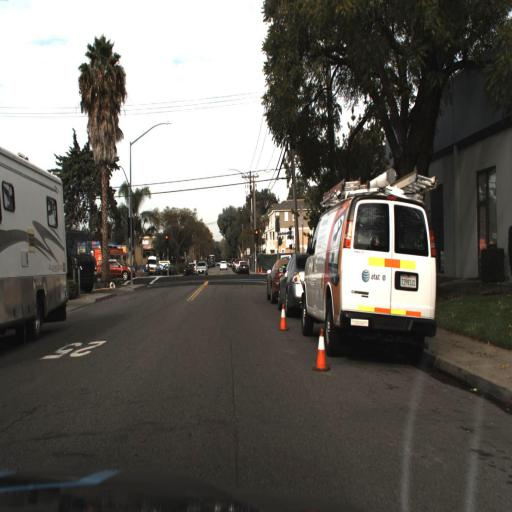car: (301, 166, 439, 358), (276, 250, 310, 317), (277, 253, 312, 318), (94, 252, 136, 283), (265, 254, 288, 306), (192, 256, 211, 279), (192, 259, 207, 279), (217, 255, 230, 277)
trafficLight-Green: (254, 226, 260, 247)
trafficLight-Red: (163, 232, 170, 254), (253, 227, 259, 242)
truck: (61, 224, 98, 295)
